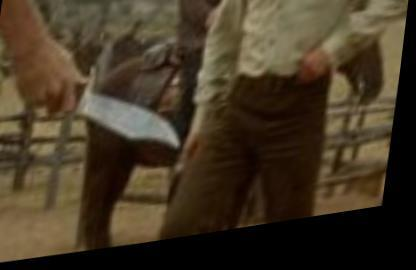knife: (22, 42, 199, 173)
